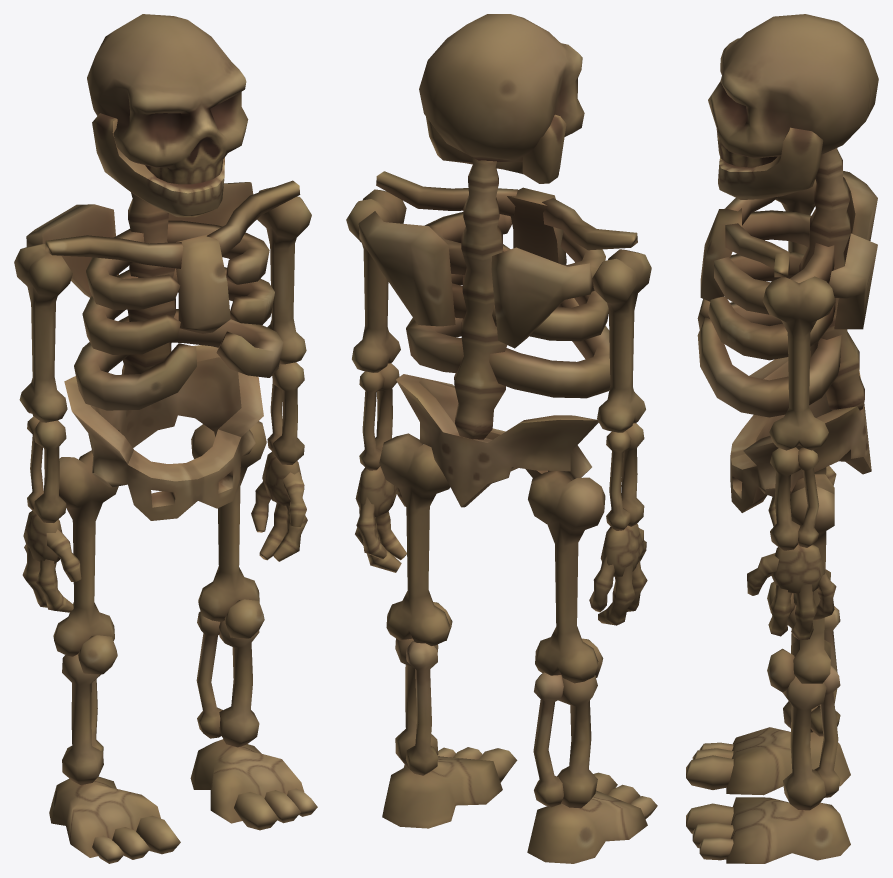
Rendered from skeleton.fbx.
3 renders of one model, left to right at view 1: azimuth 30°, elevation 25°; view 2: azimuth 150°, elevation 25°; view 3: azimuth 270°, elevation 25°, orthographic. The views are drawn at different scales.
Parts seen in each view (by area): view 1: skeleton; view 2: skeleton; view 3: skeleton.
Part boxes in pixels (x1,y1,x2,y2): skeleton: (14, 14, 317, 863); skeleton: (346, 14, 657, 863); skeleton: (686, 14, 878, 863).
Size of the model in its own units: 59.23 by 163 by 36.01.
